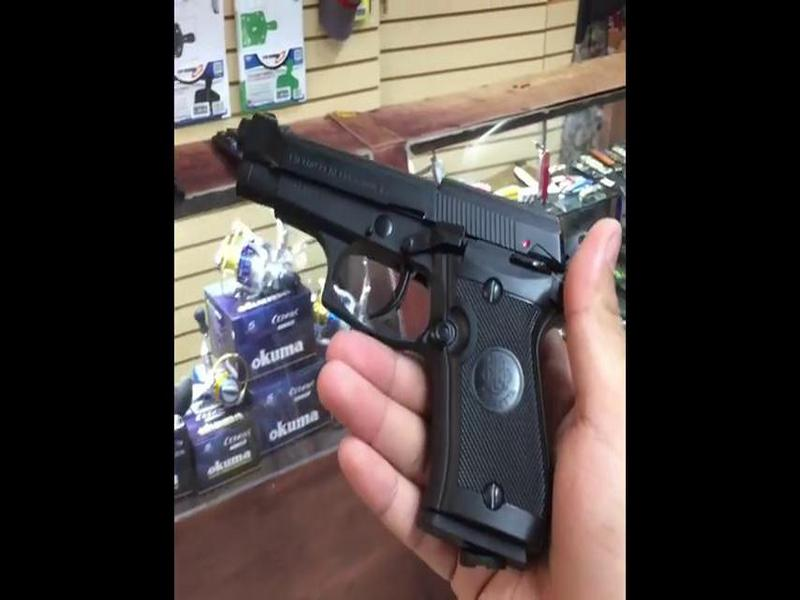Pistola: (234, 106, 570, 572)
